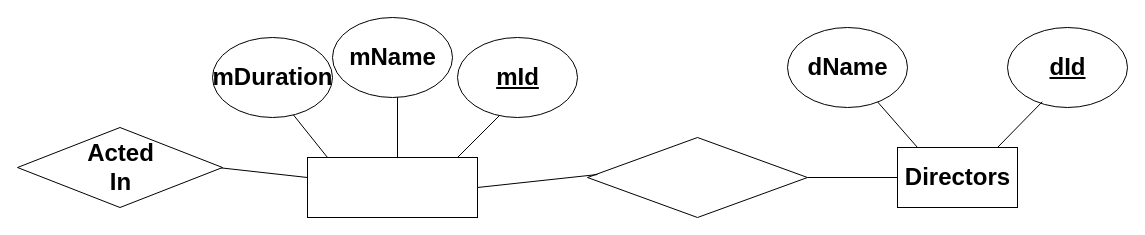
This 1145x235 diagram has some shape labels left out. The box of each missing label's shape, as (x1, y1, x2, y2) in pixels:
Directed By: (586, 136, 808, 218)
Movies: (306, 156, 478, 218)
